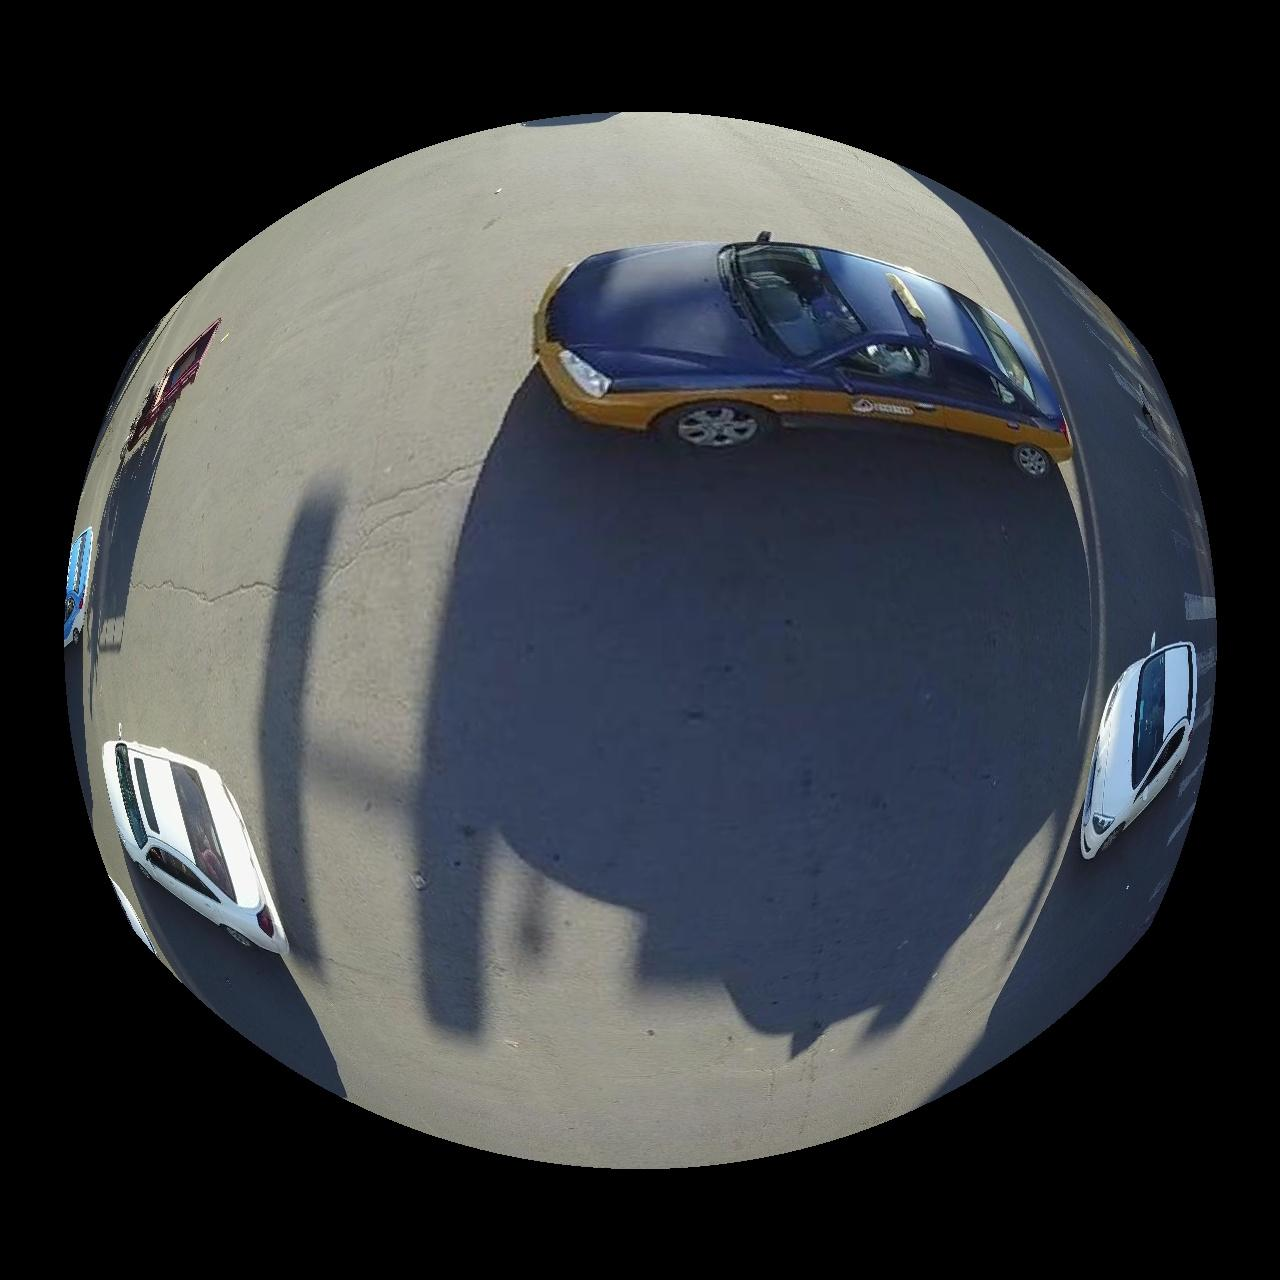cars: (535, 231, 1074, 472), (101, 741, 288, 955), (1083, 644, 1201, 860)
